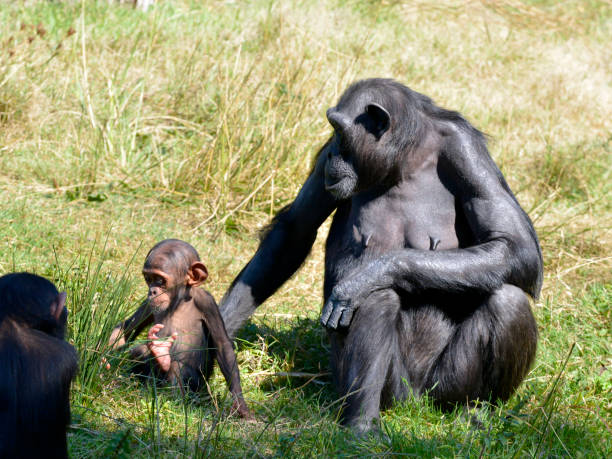chimpanzee: (308, 68, 440, 215), (132, 239, 223, 335)
